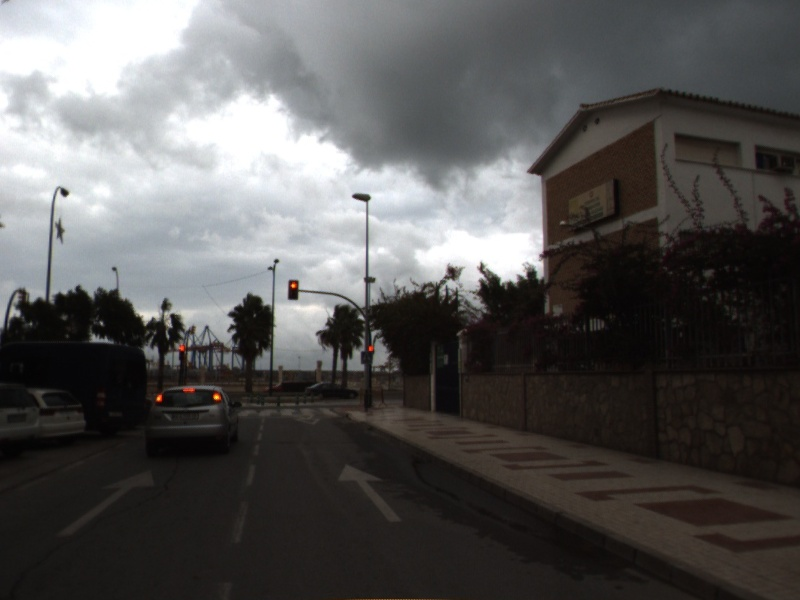STRAIGHT: (53, 466, 157, 540), (336, 461, 406, 524)
